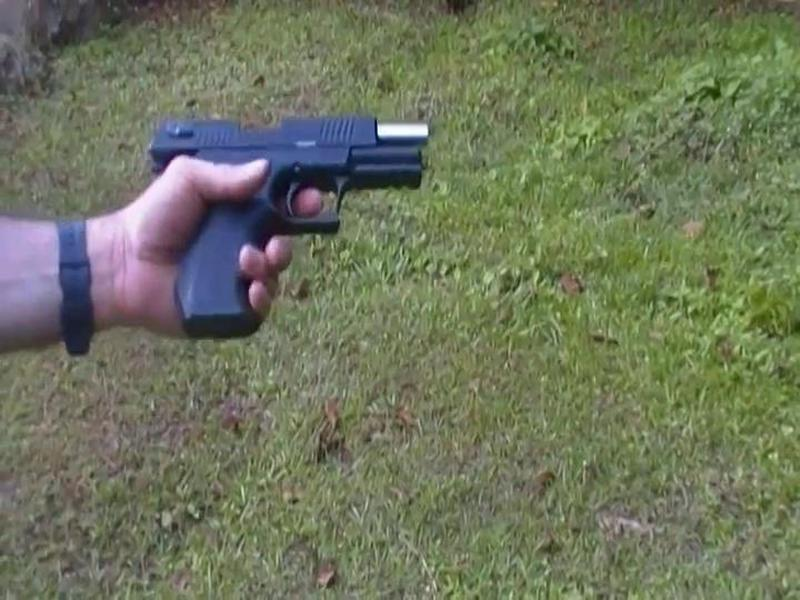Pistola: (118, 100, 457, 343)
